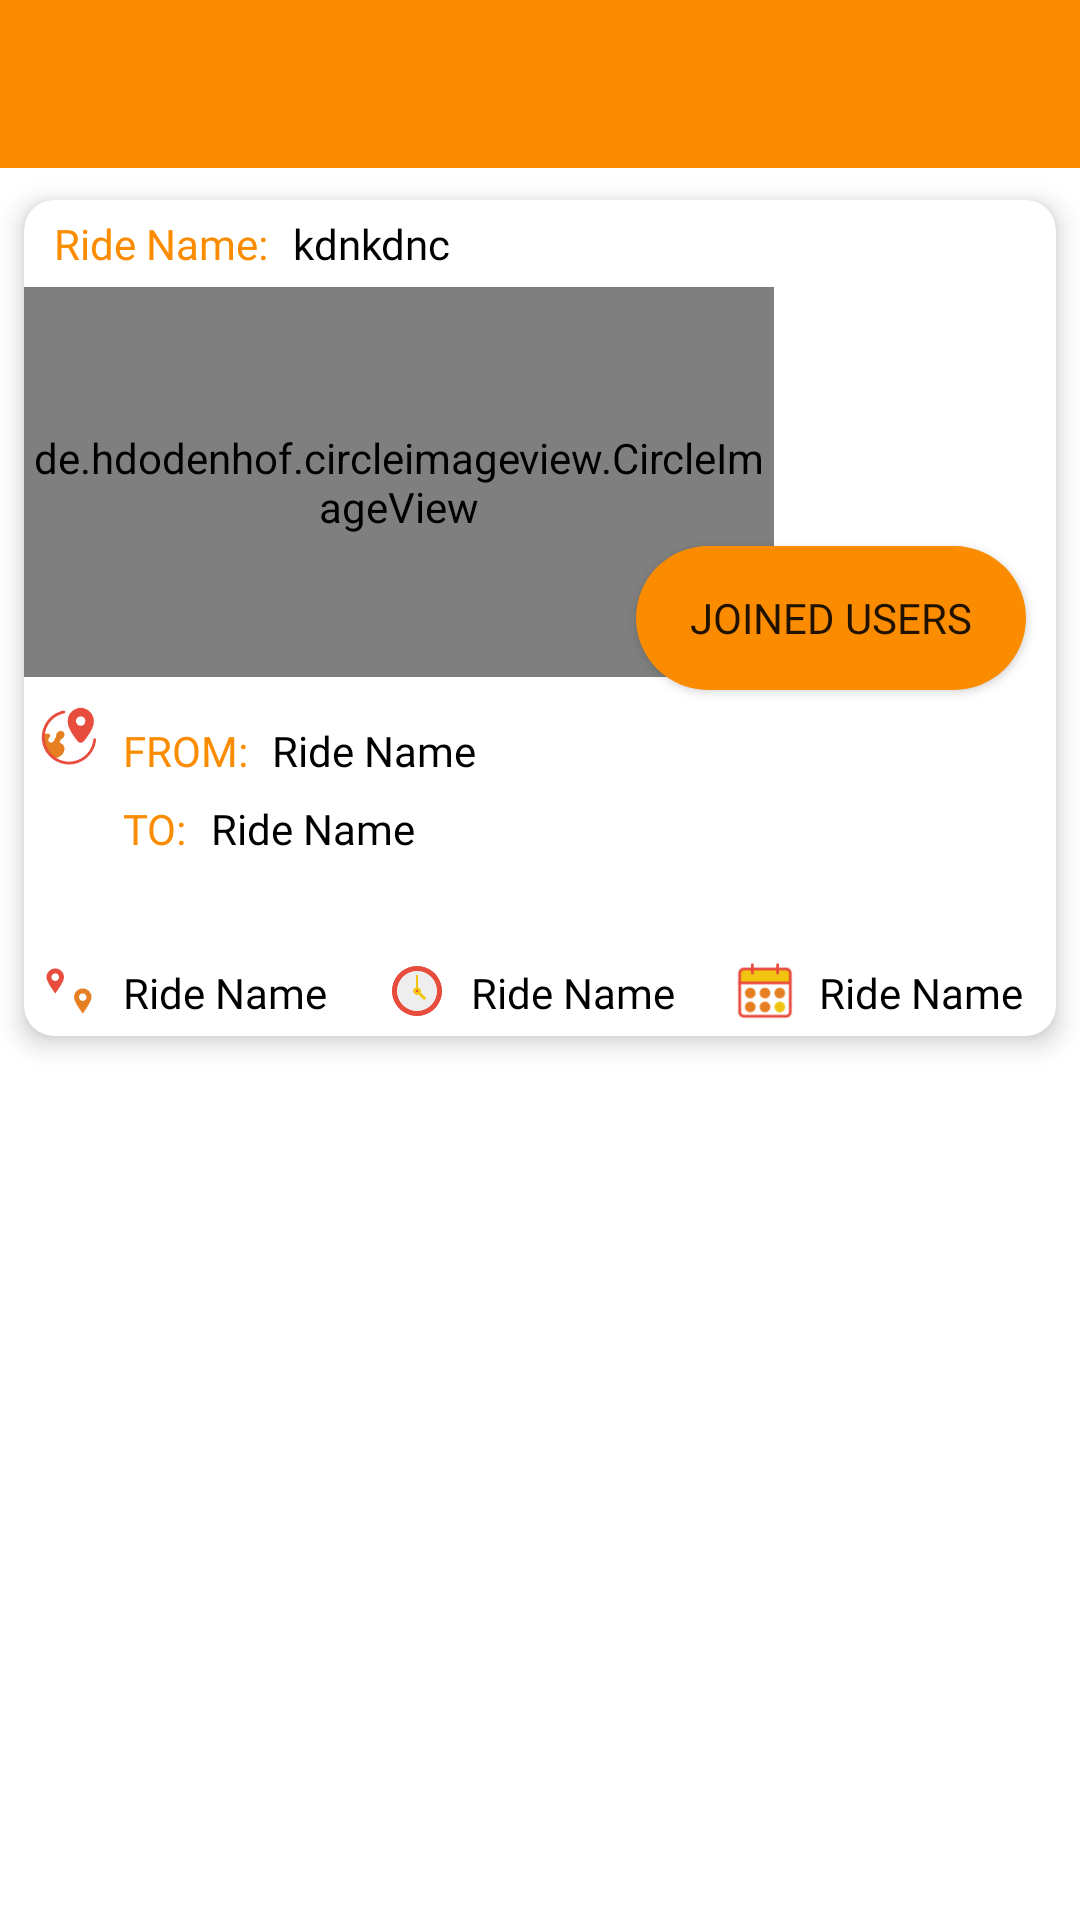

Named icons in this screenshot (1080*1920) and their centers, (x,y):
calender: (765,990)
clock: (417,991)
distance: (69,991)
locationn: (68,736)
